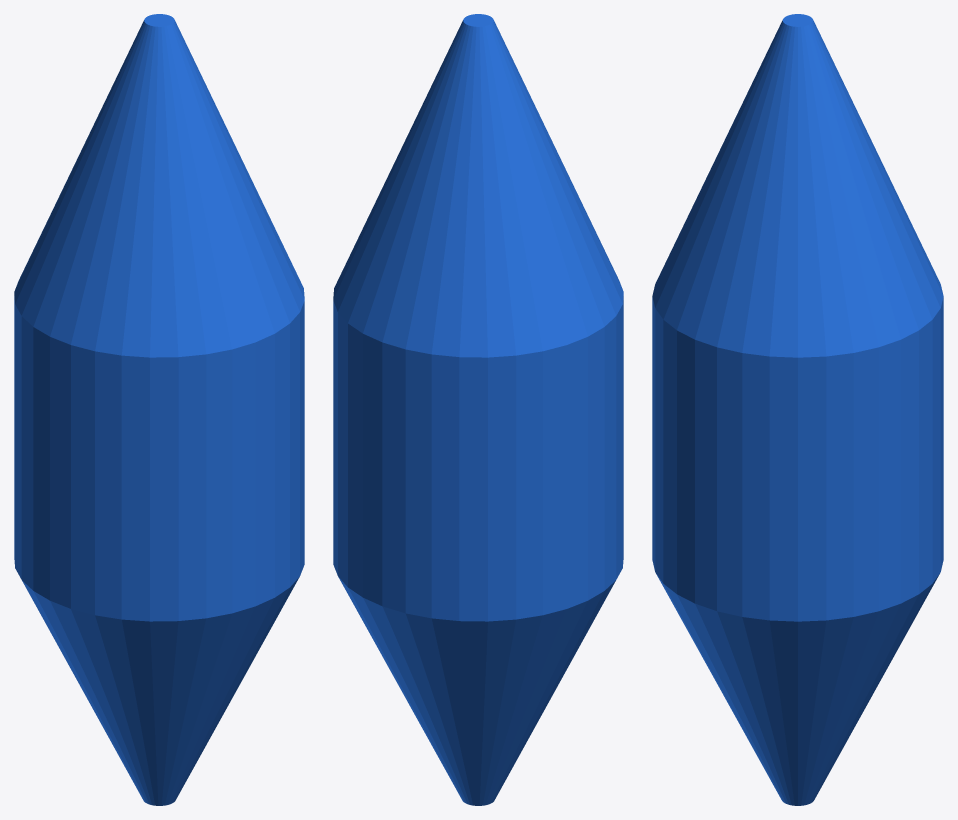
Rendered from CrystalDrop.fbx.
3 renders of one model, left to right at view 1: azimuth 30°, elevation 25°; view 2: azimuth 150°, elevation 25°; view 3: azimuth 270°, elevation 25°, orthographic.
Visible parts, largest first — view 1: Cylinder; view 2: Cylinder; view 3: Cylinder.
Boxes of the visible parts, x1,y1,x2,y2 form: Cylinder: (14,14,304,805); Cylinder: (333,14,623,805); Cylinder: (652,14,943,805).
Size of the model in its own units: 200 by 590 by 200.
